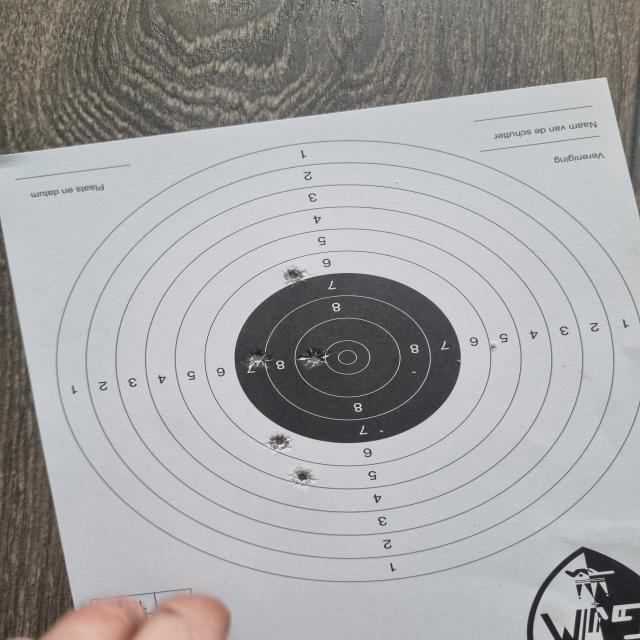2: (297, 346, 333, 368)
6: (288, 468, 319, 486)
7: (262, 434, 295, 451)
8: (280, 268, 307, 285)
9: (246, 350, 272, 368)
Black Contour: (234, 272, 458, 444)
Target: (56, 136, 640, 585)
